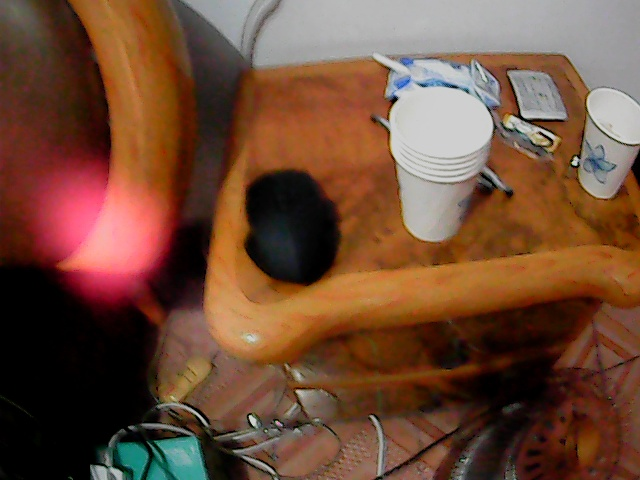cup: (387, 83, 492, 243)
mouse: (238, 166, 337, 285)
